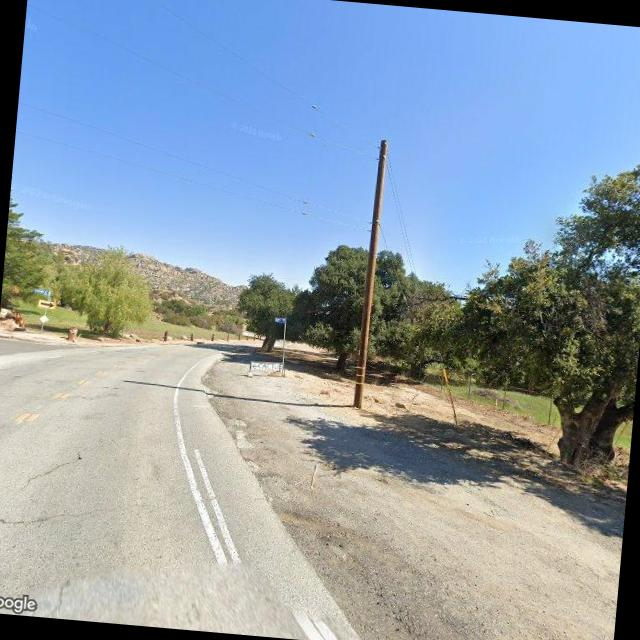crack: (0, 486, 122, 545), (10, 438, 90, 502)
